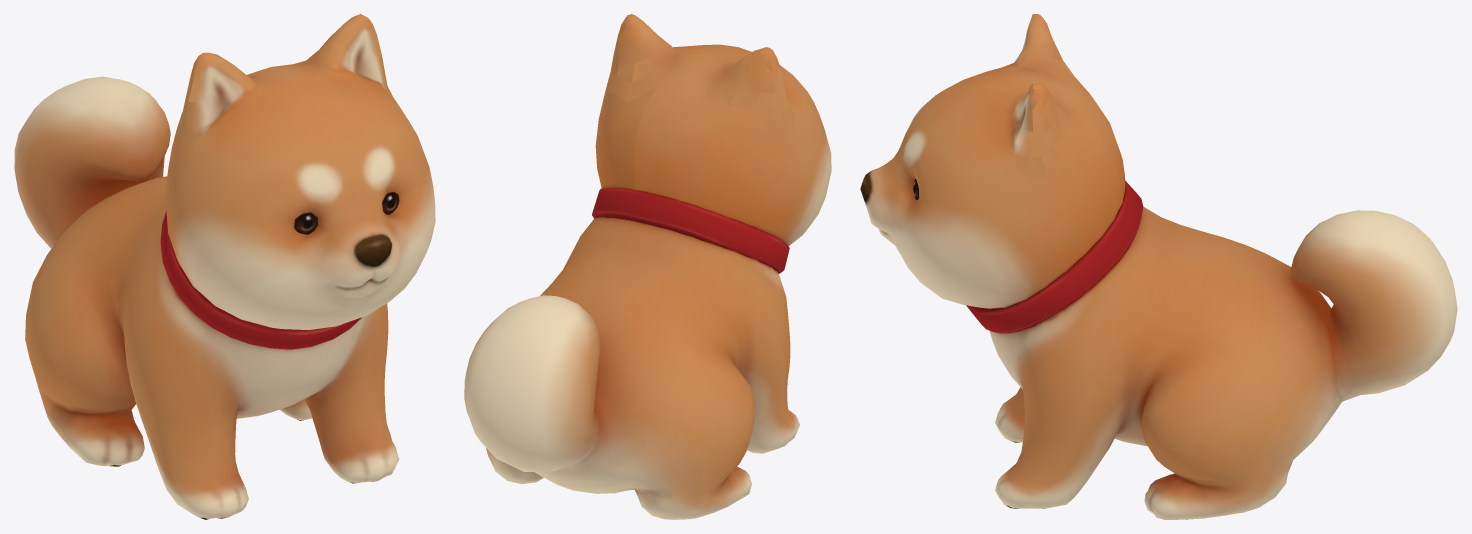
The model's file is dog2.gltf.
3 views of the same model, side by side, from view 1: azimuth 30°, elevation 25°; view 2: azimuth 150°, elevation 25°; view 3: azimuth 270°, elevation 25° (orthographic). The views are drawn at different scales.
Parts seen in each view (by area): view 1: Box002, Box002_head_0.001, Group18985, Object001_default_0; view 2: Box002, Box002_head_0.001, Group18985; view 3: Box002, Box002_head_0.001, Group18985.
Part boxes in pixels (x1,y1,x2,y2): Box002: [14, 14, 399, 519]; Box002_head_0.001: [165, 15, 435, 329]; Group18985: [160, 211, 362, 349]; Object001_default_0: [294, 192, 399, 234]; Box002: [464, 14, 799, 519]; Box002_head_0.001: [595, 14, 831, 245]; Group18985: [592, 188, 789, 273]; Box002: [981, 14, 1457, 519]; Box002_head_0.001: [860, 14, 1122, 308]; Group18985: [966, 181, 1143, 333].
Bounding box in the file's own units: 0.9209 × 1.38 × 1.77.
Materials: 1 (1 with a texture image).
